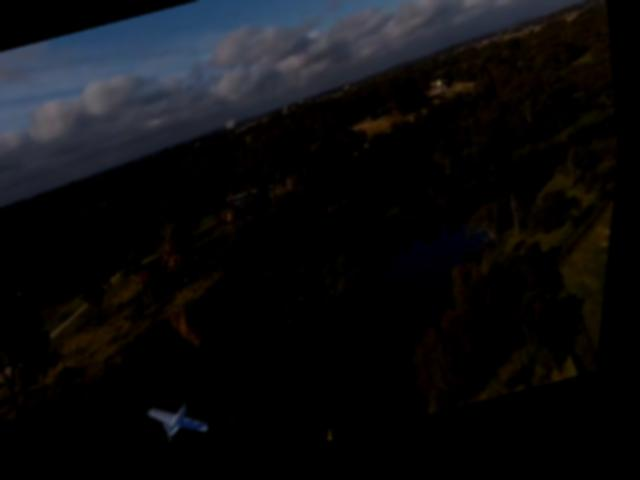uav: (148, 396, 225, 458)
